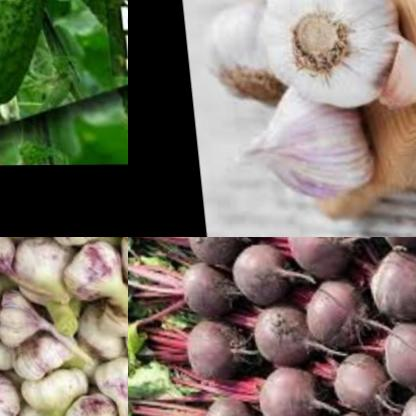beet: (313, 343, 395, 416), (295, 276, 376, 347), (244, 296, 316, 371), (216, 241, 297, 305), (167, 252, 239, 322), (174, 318, 242, 380), (247, 363, 326, 416), (363, 247, 416, 319), (371, 314, 416, 390), (276, 237, 358, 277), (191, 387, 267, 416), (178, 237, 252, 263)
cucumber: (0, 0, 73, 112)
garlic: (0, 237, 128, 416), (215, 82, 368, 210), (243, 0, 409, 109), (187, 0, 316, 111), (364, 31, 416, 119)
